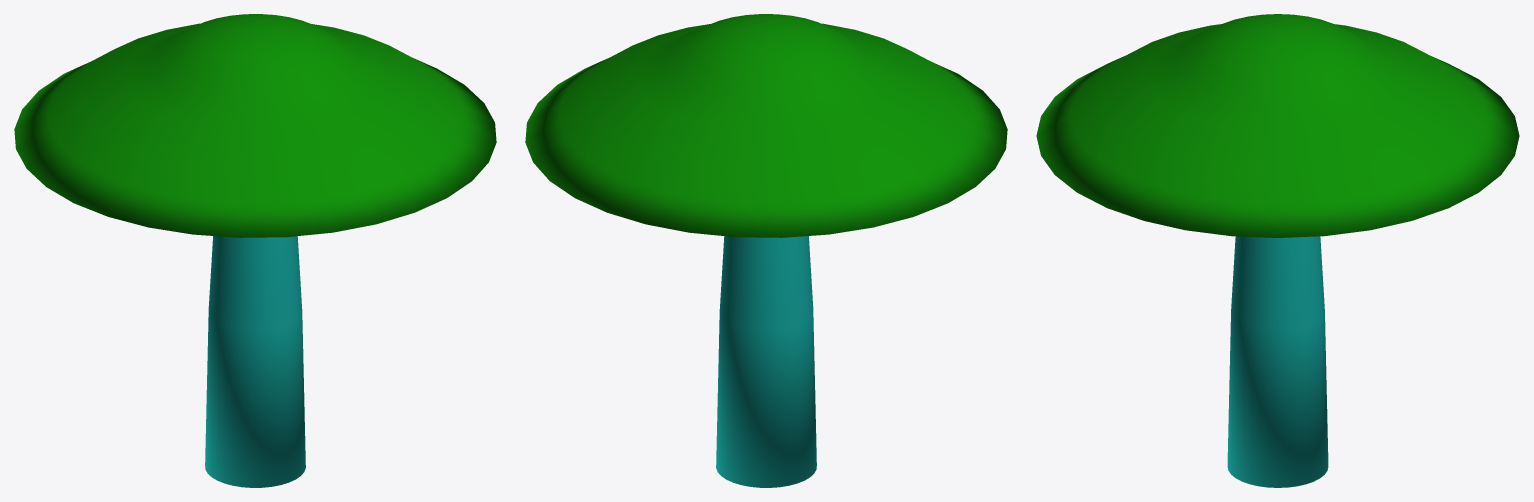
File: luminescent_mushroom.obj
3 views of the same model, side by side, from view 1: azimuth 30°, elevation 25°; view 2: azimuth 150°, elevation 25°; view 3: azimuth 270°, elevation 25° (orthographic).
Visible parts, largest first — view 1: luminescent_mushroom; view 2: luminescent_mushroom; view 3: luminescent_mushroom.
Boxes of the visible parts, x1,y1,x2,y2 form: luminescent_mushroom: (14,14,496,487); luminescent_mushroom: (525,14,1007,487); luminescent_mushroom: (1036,14,1519,487).
Size of the model in its own units: 0.05 by 0.05 by 0.05.
Materials: 1 (1 with a texture image).
